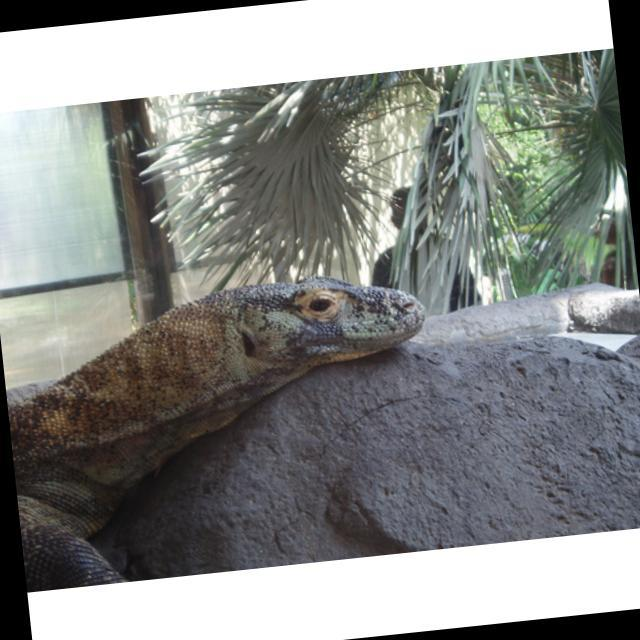KomodoDragon: (0, 262, 453, 589)
